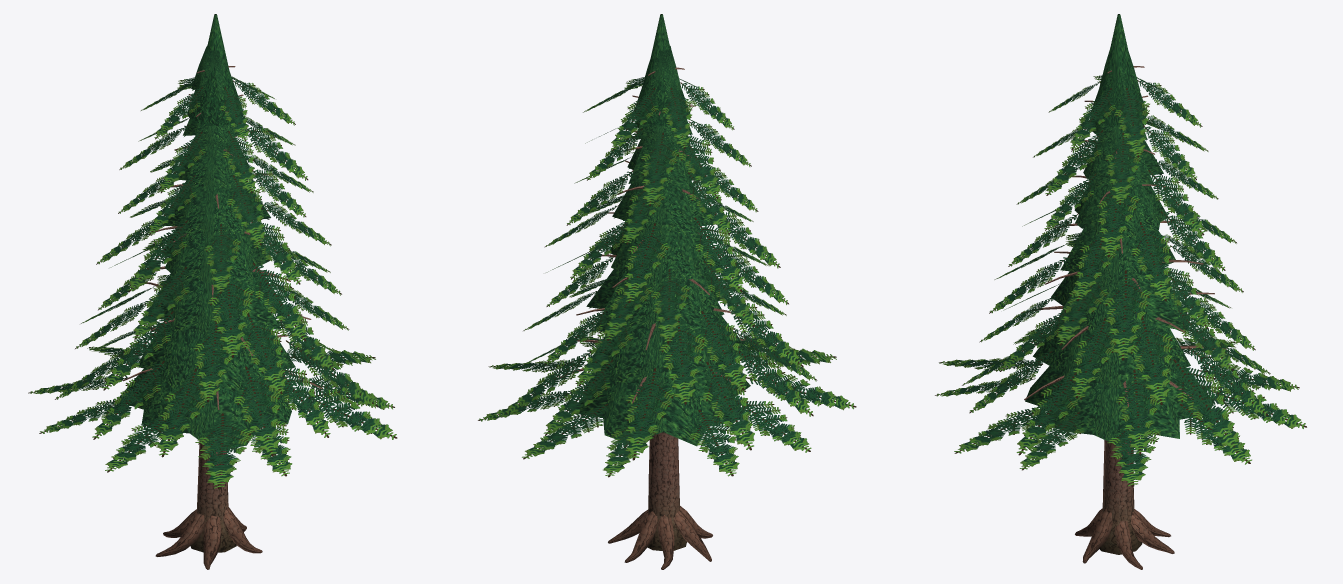
The model's file is tree_fir_lod.glb.
3 renders of one model, left to right at view 1: azimuth 30°, elevation 25°; view 2: azimuth 150°, elevation 25°; view 3: azimuth 270°, elevation 25°, orthographic.
Parts seen in each view (by area): view 1: Leaves, Roots, Trunk, Branches; view 2: Leaves, Trunk, Roots, Branches; view 3: Leaves, Roots, Trunk, Branches.
Part boxes in pixels (x1=…): Leaves: x1=28, y1=14, x2=397, y2=489; Roots: x1=155, y1=507, x2=262, y2=569; Trunk: x1=190, y1=441, x2=236, y2=552; Branches: x1=123, y1=66, x2=322, y2=409; Leaves: x1=478, y1=14, x2=856, y2=477; Trunk: x1=647, y1=432, x2=686, y2=550; Roots: x1=608, y1=506, x2=712, y2=569; Branches: x1=558, y1=67, x2=751, y2=403; Leaves: x1=935, y1=14, x2=1306, y2=486; Roots: x1=1075, y1=508, x2=1174, y2=569; Trunk: x1=1099, y1=440, x2=1142, y2=554; Branches: x1=1021, y1=66, x2=1226, y2=406.
Size of the model in its own units: 5.96 by 8.58 by 6.19.
Materials: 2 (2 with a texture image).
